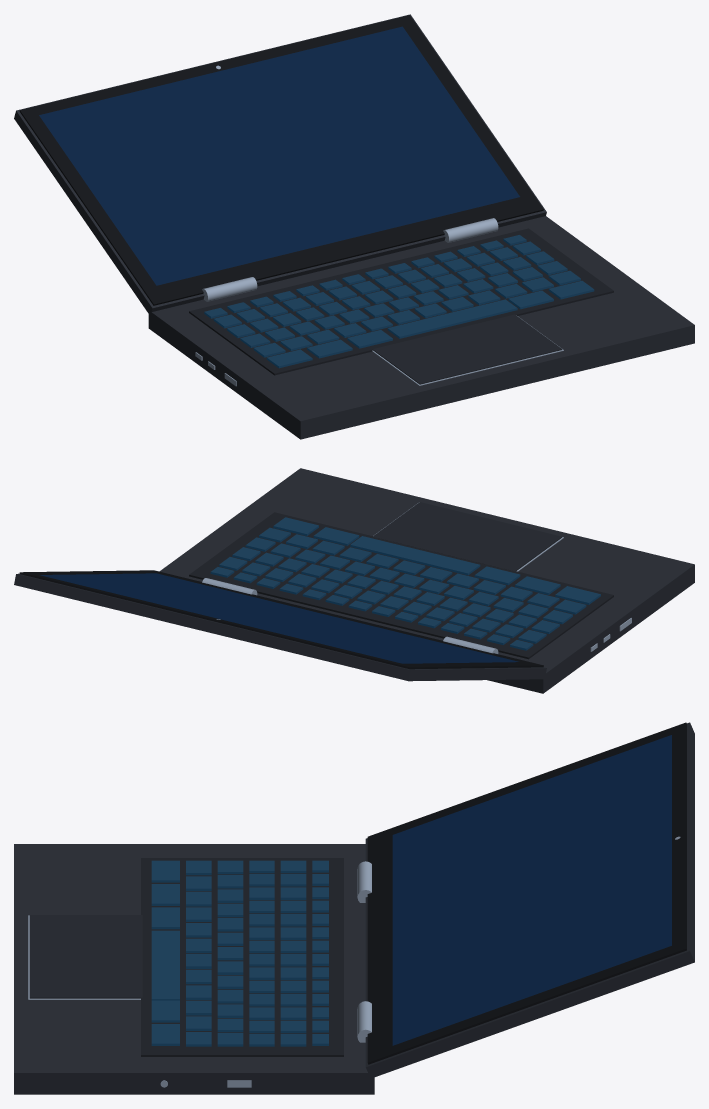
Rendered from laptop-flagship.glb.
3 views of the same model, one above another, from view 1: azimuth 30°, elevation 25°; view 2: azimuth 150°, elevation 25°; view 3: azimuth 270°, elevation 25° (orthographic). The views are drawn at different scales.
Visible parts, largest first — view 1: OLED_Screen_Panel, Base_Chassis, TechTink_Flagship_Laptop, Screen_Bezel, Keyboard_Well_Mesh, Glass_Touchpad, Lid_Back_Cover, Hinge_Right, Hinge_Left; view 2: Base_Chassis, TechTink_Flagship_Laptop, OLED_Screen_Panel, Keyboard_Well_Mesh, Lid_Back_Cover, Glass_Touchpad, Screen_Bezel; view 3: OLED_Screen_Panel, Base_Chassis, TechTink_Flagship_Laptop, Keyboard_Well_Mesh, Screen_Bezel, Glass_Touchpad, Lid_Back_Cover.
Boxes of the visible parts, box(x1,y1,x2,y2) form: OLED_Screen_Panel: box(39, 26, 519, 285); Base_Chassis: box(148, 216, 694, 439); TechTink_Flagship_Laptop: box(204, 235, 594, 385); Screen_Bezel: box(19, 15, 543, 305); Keyboard_Well_Mesh: box(189, 228, 613, 375); Glass_Touchpad: box(372, 314, 562, 384); Lid_Back_Cover: box(14, 14, 546, 315); Hinge_Right: box(443, 218, 498, 242); Hinge_Left: box(202, 277, 257, 301); Base_Chassis: box(159, 468, 694, 693); TechTink_Flagship_Laptop: box(210, 502, 600, 650); OLED_Screen_Panel: box(40, 573, 518, 663); Keyboard_Well_Mesh: box(189, 512, 613, 659); Lid_Back_Cover: box(14, 573, 546, 681); Glass_Touchpad: box(372, 502, 562, 571); Screen_Bezel: box(19, 570, 543, 669); OLED_Screen_Panel: box(392, 735, 671, 1045); Base_Chassis: box(14, 844, 374, 1094); TechTink_Flagship_Laptop: box(28, 860, 328, 1046); Keyboard_Well_Mesh: box(141, 858, 343, 1056); Screen_Bezel: box(367, 722, 686, 1064); Glass_Touchpad: box(29, 915, 142, 998); Lid_Back_Cover: box(365, 722, 694, 1078).
Size of the model in its own units: 3.61 by 1.08 by 4.53.
